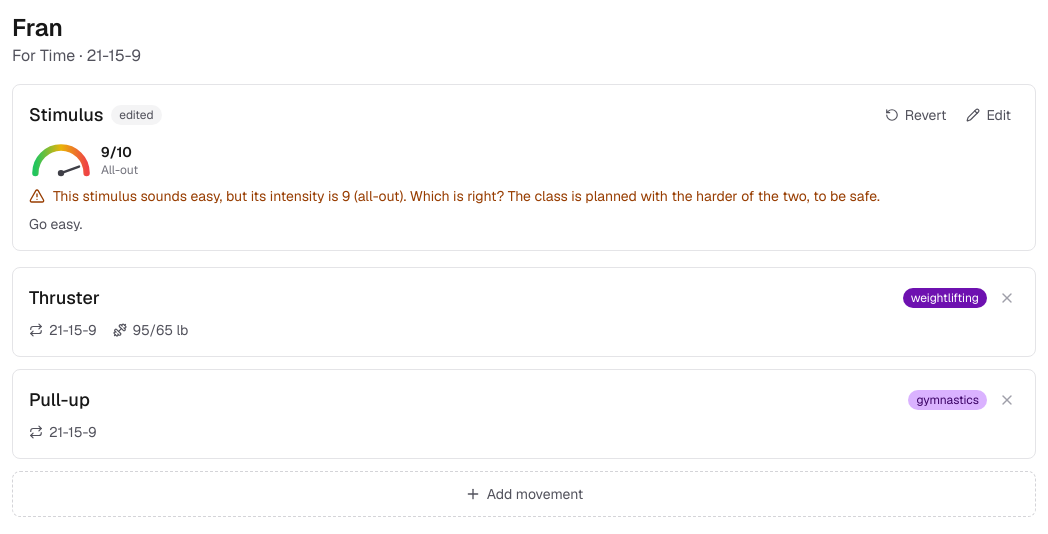
Test: WorkoutPart › reverts to the parsed stimulus even after coming back to the page
Check: the text "Go easy." is shown, box top-left (29, 215), bottom-right (82, 233)
Click the button with aria-label "Revert stimulus to original" at (916, 115), box top-left (877, 101), bottom-right (954, 129)
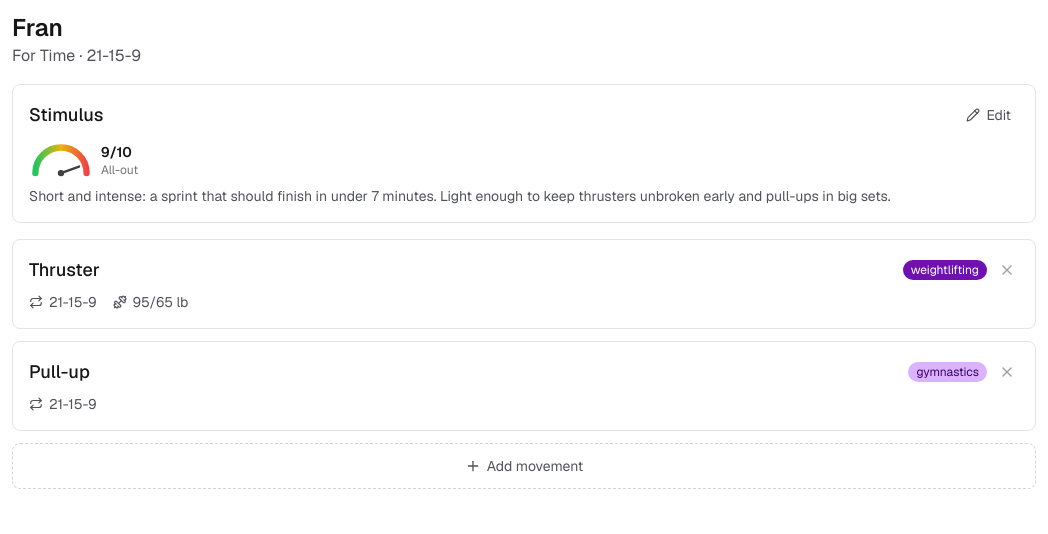
Check: the text "Short and intense: a sprint that should finish in under 7 minutes. Light enough to keep thrusters unbroken early and pul" is shown, box top-left (29, 187), bottom-right (891, 205)
